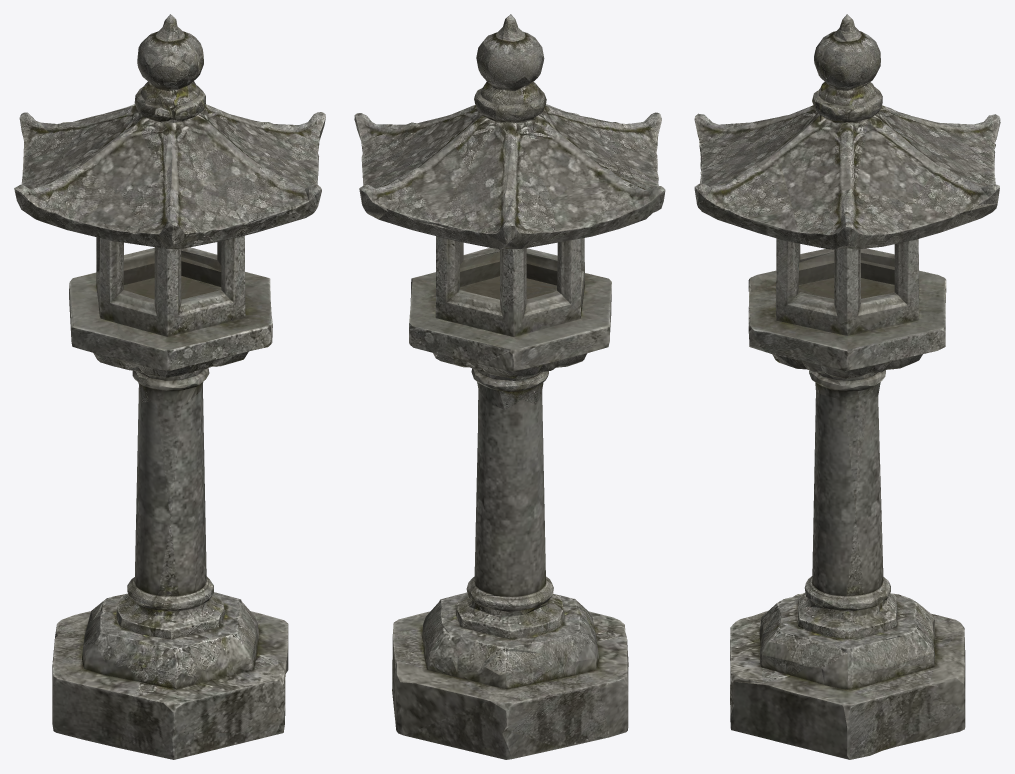
File: lantern-mobile.glb
3 views of the same model, side by side, from view 1: azimuth 30°, elevation 25°; view 2: azimuth 150°, elevation 25°; view 3: azimuth 270°, elevation 25° (orthographic).
Visible parts, largest first — view 1: output_unwrapped; view 2: output_unwrapped; view 3: output_unwrapped.
Boxes of the visible parts, x1=… form: output_unwrapped: x1=14, y1=14, x2=325, y2=759; output_unwrapped: x1=354, y1=14, x2=665, y2=759; output_unwrapped: x1=694, y1=14, x2=1000, y2=759.
Size of the model in its own units: 0.9868 by 2.1 by 0.8448.
1 material, 1 textured.
